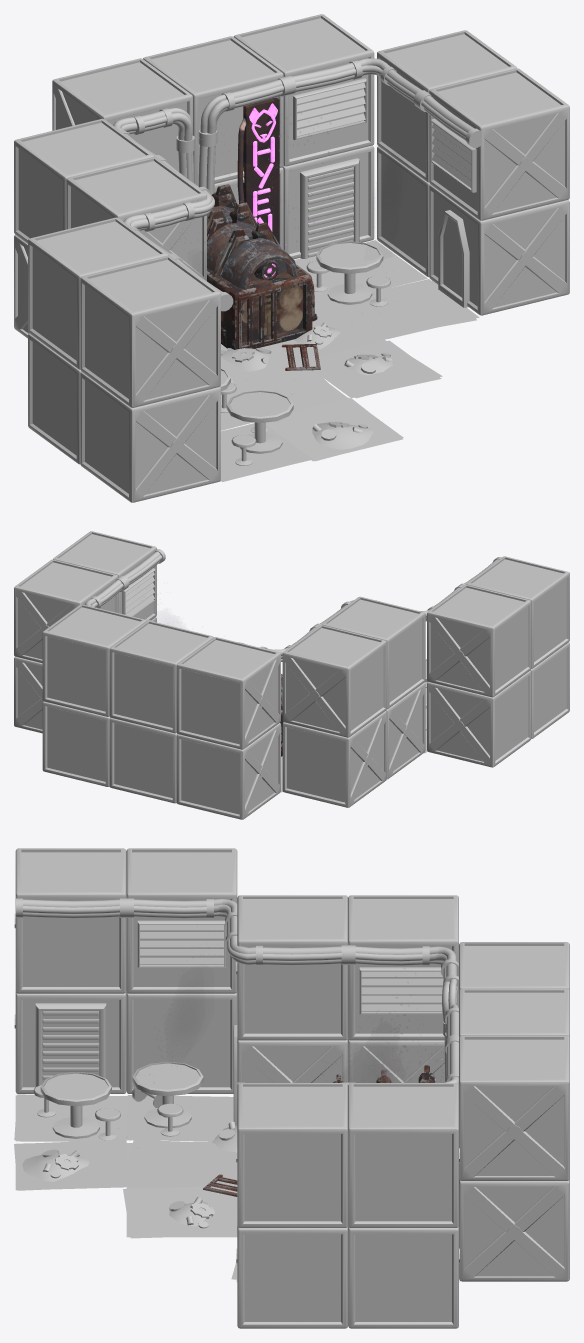
3 renders of one model, top to bottom at view 1: azimuth 30°, elevation 25°; view 2: azimuth 150°, elevation 25°; view 3: azimuth 270°, elevation 25°, orthographic. The views are drawn at different scales.
Parts seen in each view (by area): view 1: SlumUnit17, SlumGenirator, SlumUnit1, SlumUnit18, SlumUnit2, SlumUnit15, SlumUnit11, SlumUnit3, SlumUnit13, SlumUnit5, SlumUnit7, SlumUnit9 (+31 smaller); view 2: SlumUnit15, SlumUnit11, SlumUnit9, SlumUnit12, SlumUnit16, SlumUnit10, SlumUnit7, SlumUnit5, SlumUnit3, SlumUnit13, SlumUnit17, SlumUnit8 (+8 smaller); view 3: SlumUnit1, SlumUnit3, SlumUnit5, SlumUnit17, SlumUnit13, SlumUnit2, SlumUnit4, SlumUnit6, SlumUnit15, SlumUnit11, SlumUnit16, SlumRDoor2 (+24 smaller).
Boxes of the visible parts, <box> form: SlumUnit17: <box>80,255,220,407</box>; SlumGenirator: <box>207,97,320,370</box>; SlumUnit1: <box>429,68,569,220</box>; SlumUnit18: <box>80,372,220,502</box>; SlumUnit2: <box>429,184,569,315</box>; SlumUnit15: <box>28,217,168,369</box>; SlumUnit11: <box>14,118,154,243</box>; SlumUnit3: <box>377,30,517,182</box>; SlumUnit13: <box>66,157,206,280</box>; SlumUnit5: <box>233,14,374,166</box>; SlumUnit7: <box>143,36,283,186</box>; SlumUnit9: <box>52,58,192,171</box>; SlumUnit15: <box>427,584,531,697</box>; SlumUnit11: <box>282,625,386,737</box>; SlumUnit9: <box>176,637,280,749</box>; SlumUnit12: <box>282,711,386,807</box>; SlumUnit16: <box>427,670,531,767</box>; SlumUnit10: <box>176,723,280,819</box>; SlumUnit7: <box>109,620,213,733</box>; SlumUnit5: <box>42,604,146,716</box>; SlumUnit3: <box>14,559,118,663</box>; SlumUnit13: <box>321,596,425,709</box>; SlumUnit17: <box>466,556,569,668</box>; SlumUnit8: <box>109,718,177,803</box>; SlumUnit1: <box>236,1083,348,1227</box>; SlumUnit3: <box>348,1083,459,1227</box>; SlumUnit5: <box>459,1036,569,1180</box>; SlumUnit17: <box>14,848,126,993</box>; SlumUnit13: <box>236,895,348,1040</box>; SlumUnit2: <box>236,1226,348,1328</box>; SlumUnit4: <box>348,1226,459,1328</box>; SlumUnit6: <box>459,1178,569,1281</box>; SlumUnit15: <box>126,848,237,993</box>; SlumUnit11: <box>348,895,458,1040</box>; SlumUnit16: <box>126,991,237,1093</box>; SlumRDoor2: <box>35,1003,106,1086</box>.
Bounding box in the file's own units: 10.69 × 4.47 × 8.93.
